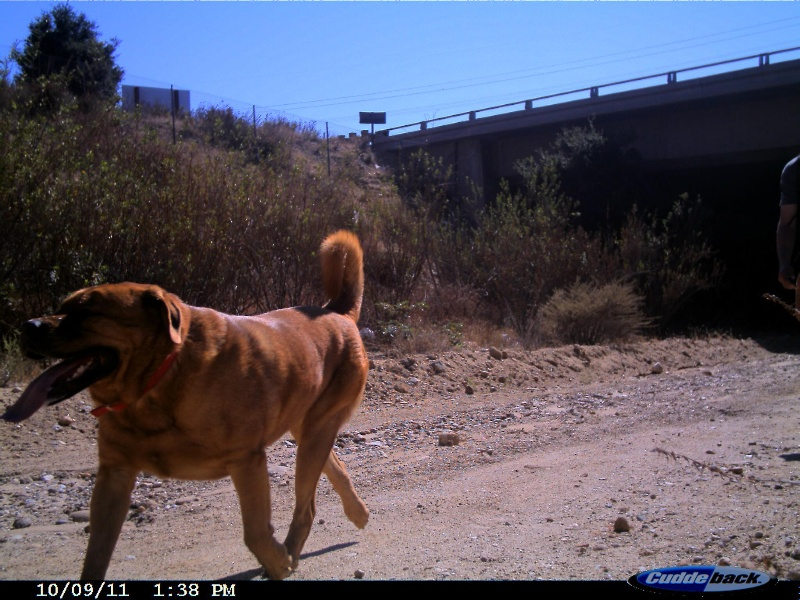dog: (3, 223, 378, 578)
